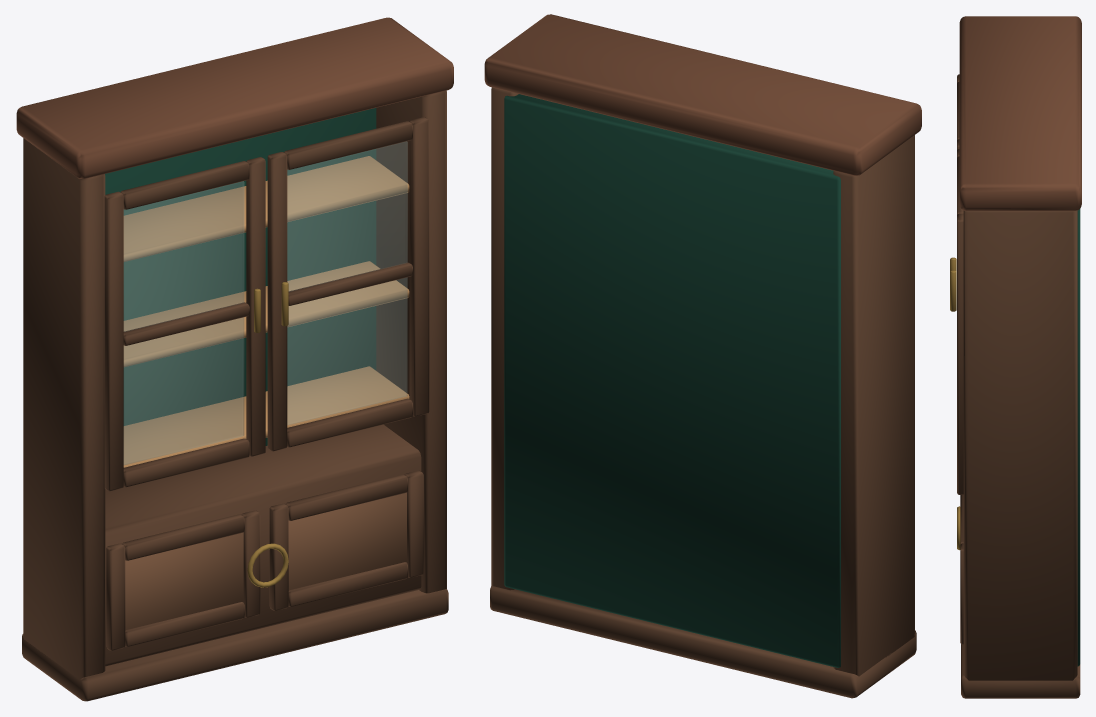
File: asset_070_trophy_display_cabinet.glb
3 views of the same model, side by side, from view 1: azimuth 30°, elevation 25°; view 2: azimuth 150°, elevation 25°; view 3: azimuth 270°, elevation 25° (orthographic). The views are drawn at different scales.
Visible parts, largest first — view 1: MESH_DisplayCabinetSideSet, MESH_DisplayCrown, MESH_DisplayBack, MESH_DisplayLowerDoorSet, MESH_DisplayDoorRightGlass, MESH_DisplayDoorLeftGlass, MESH_DisplayShelfSet, MESH_LowerStorageCarcass, MESH_DisplayDoorRightWoodFrame, MESH_DisplayDoorLeftWoodFrame, MESH_DisplayPlinth, MESH_DisplayCrest; view 2: MESH_DisplayBack, MESH_DisplayCabinetSideSet, MESH_DisplayCrown, MESH_DisplayPlinth; view 3: MESH_DisplayCabinetSideSet, MESH_DisplayCrown, MESH_DisplayPlinth, MESH_DisplayDoorRightWoodFrame, MESH_DisplayBack, MESH_DisplayLowerDoorSet, MESH_DisplayDoorPull2.
Part boxes in pixels (<box>): MESH_DisplayCabinetSideSet: <box>23,90,446,680</box>; MESH_DisplayCrown: <box>16,17,453,178</box>; MESH_DisplayBack: <box>105,108,376,445</box>; MESH_DisplayLowerDoorSet: <box>106,470,423,650</box>; MESH_DisplayDoorRightGlass: <box>287,141,407,424</box>; MESH_DisplayDoorLeftGlass: <box>124,181,243,464</box>; MESH_DisplayShelfSet: <box>123,156,409,467</box>; MESH_LowerStorageCarcass: <box>105,424,421,666</box>; MESH_DisplayDoorRightWoodFrame: <box>267,117,429,451</box>; MESH_DisplayDoorLeftWoodFrame: <box>104,157,265,491</box>; MESH_DisplayPlinth: <box>22,589,448,701</box>; MESH_DisplayCrest: <box>247,543,288,587</box>; MESH_DisplayBack: <box>504,94,840,667</box>; MESH_DisplayCabinetSideSet: <box>491,87,914,676</box>; MESH_DisplayCrown: <box>484,14,921,175</box>; MESH_DisplayPlinth: <box>490,585,916,698</box>; MESH_DisplayCabinetSideSet: <box>963,210,1077,680</box>; MESH_DisplayCrown: <box>959,16,1081,210</box>; MESH_DisplayPlinth: <box>961,644,1080,698</box>; MESH_DisplayDoorRightWoodFrame: <box>957,149,963,494</box>; MESH_DisplayBack: <box>1077,209,1080,666</box>; MESH_DisplayLowerDoorSet: <box>960,495,963,644</box>; MESH_DisplayDoorPull2: <box>950,270,956,311</box>.
Bounding box in the file's own units: 1.5 × 2.1 × 0.485.
